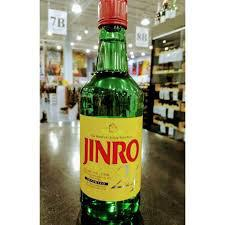soju: (78, 1, 145, 219)
